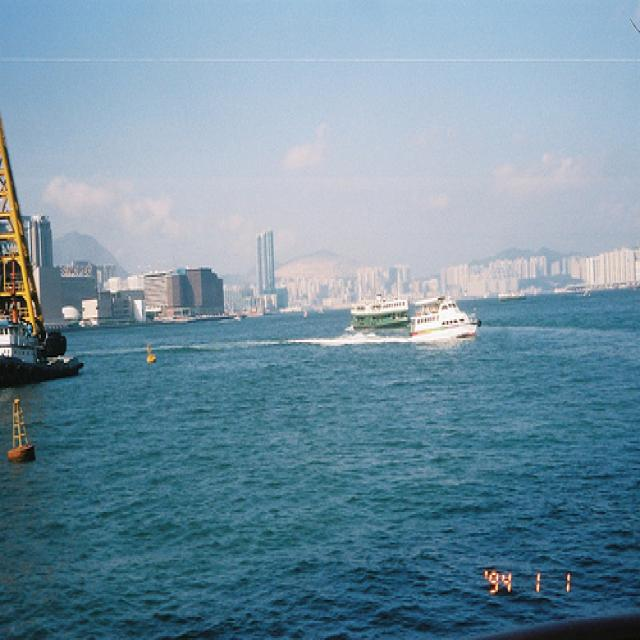boat: (1, 318, 85, 388), (408, 295, 480, 343), (351, 292, 411, 332), (499, 289, 526, 303)
